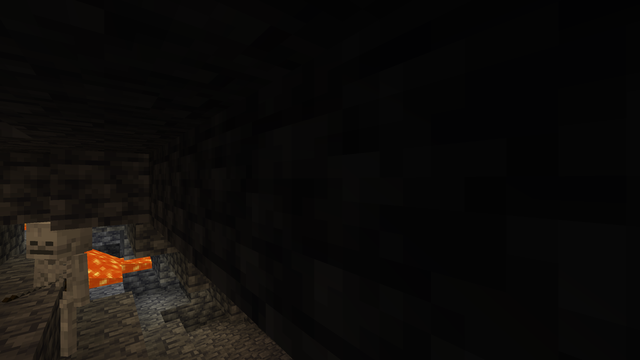squelettes: (26, 220, 87, 358)
